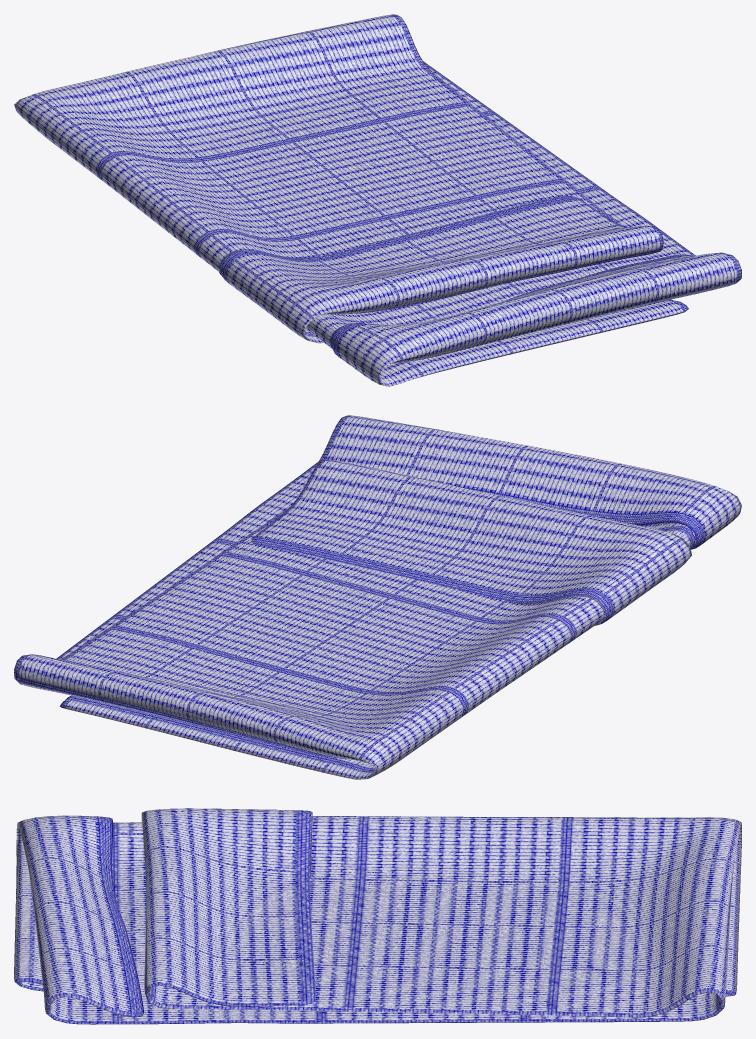
The model's file is sim.fbx.
The picture shows the model from 3 angles, top to bottom: view 1: azimuth 30°, elevation 25°; view 2: azimuth 150°, elevation 25°; view 3: azimuth 270°, elevation 25°; orthographic projection.
Parts seen in each view (by area): view 1: Tower; view 2: Tower; view 3: Tower.
Part boxes in pixels (<box>): Tower: <box>14,14,741,386</box>; Tower: <box>14,415,741,779</box>; Tower: <box>14,808,741,1024</box>.
Bounding box in the file's own units: 541 × 54.14 × 879.
